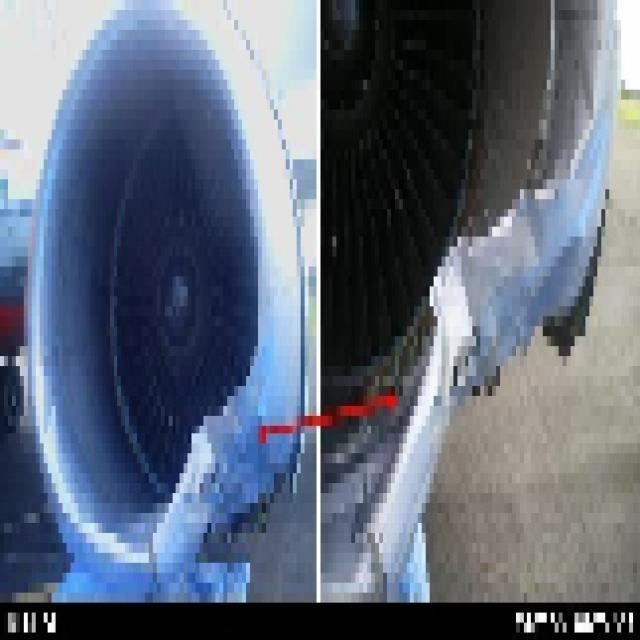dent: (445, 245, 487, 332), (513, 201, 549, 268)
